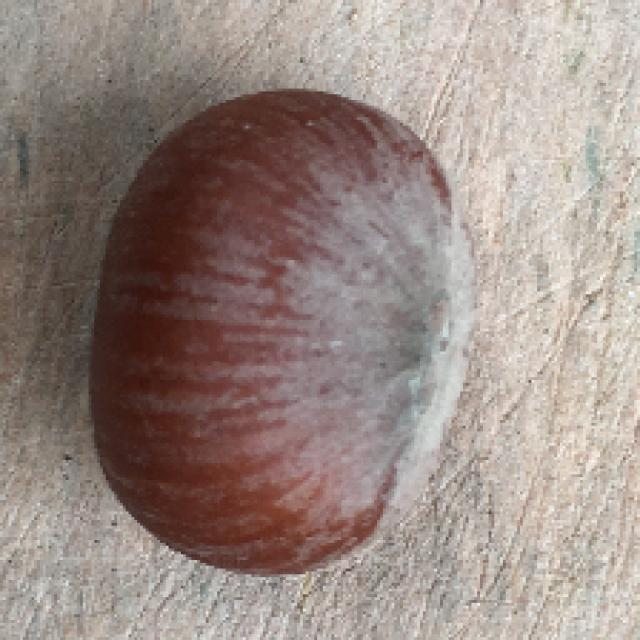qualityHazelnut: (84, 80, 477, 580)
